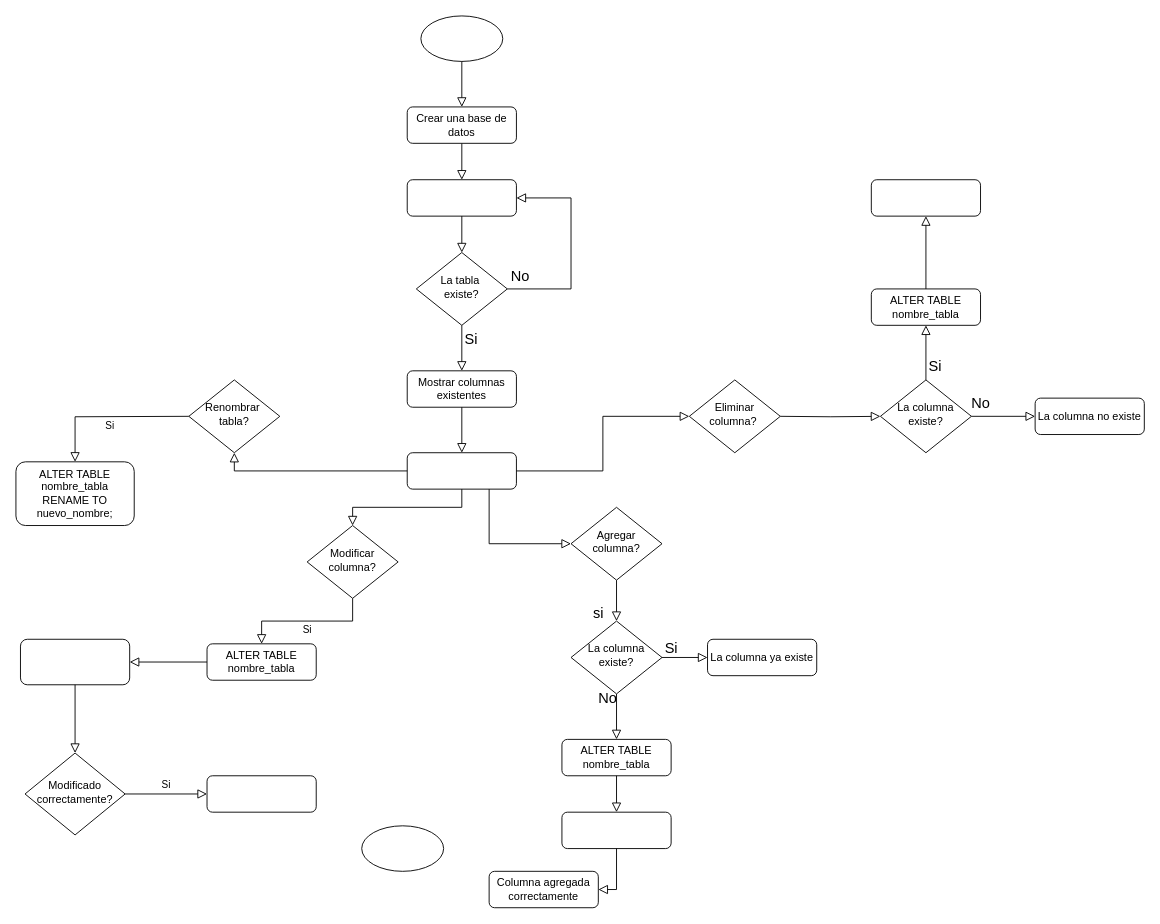
This 1160x924 diagram has some shape labels left out. The centre of each missing label's shape, as x and y in pixels:
"ADD nuevo_dato tipo_de_dato;" goes at (x=616, y=830).
"Crear una tabla dentro de la base de datos" goes at (x=461, y=197).
"Dato modificado correctamente" goes at (x=261, y=793).
"DROP COLUMN nombre_columna" goes at (x=925, y=197).
"Fin" goes at (x=402, y=848).
"Inicio" goes at (x=461, y=38).
"MODIFY nombre_tabla nuevo_tipo_de_dato;" goes at (x=75, y=661).
"Tipo de modificación" goes at (x=461, y=470).
